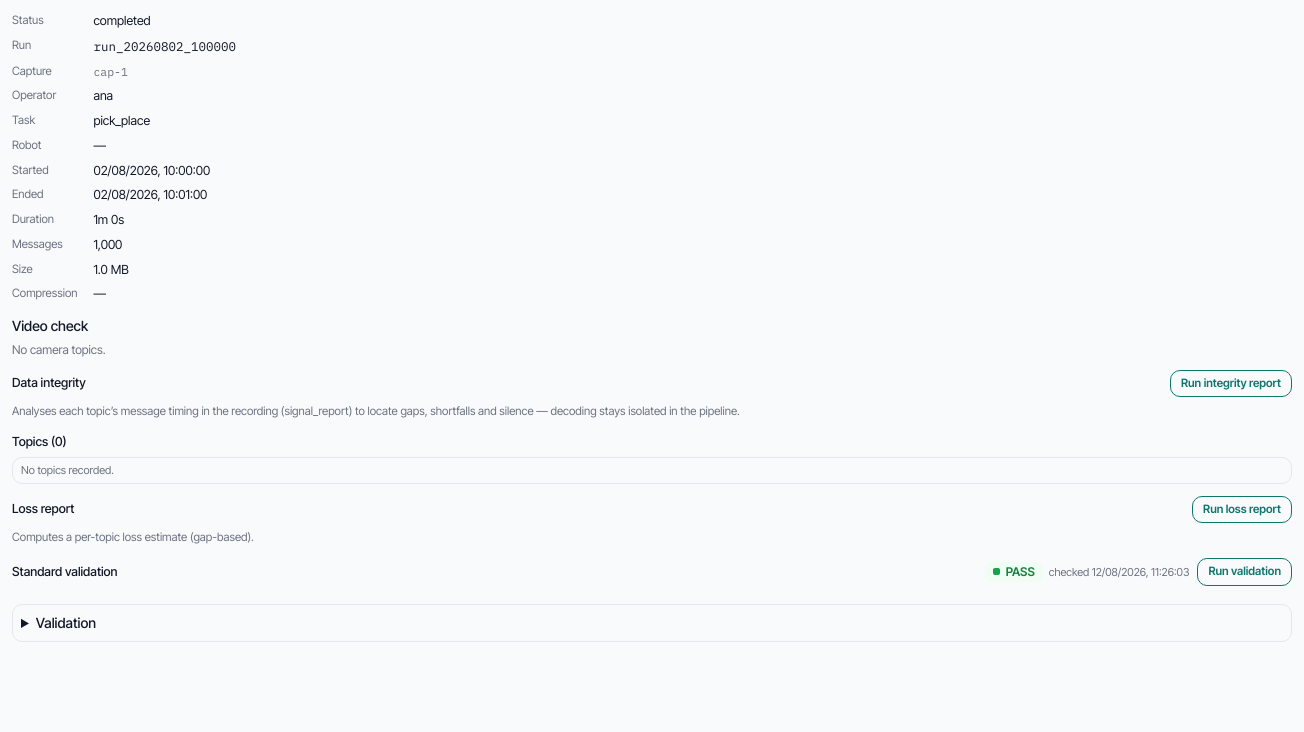
Test: a check that never reaches the server is separated from the stored PASS
This screenshot has width=1304, height=732.
Click the button with test id "review-run-validation". click: click(1245, 572)
box: [1197,558,1292,586]
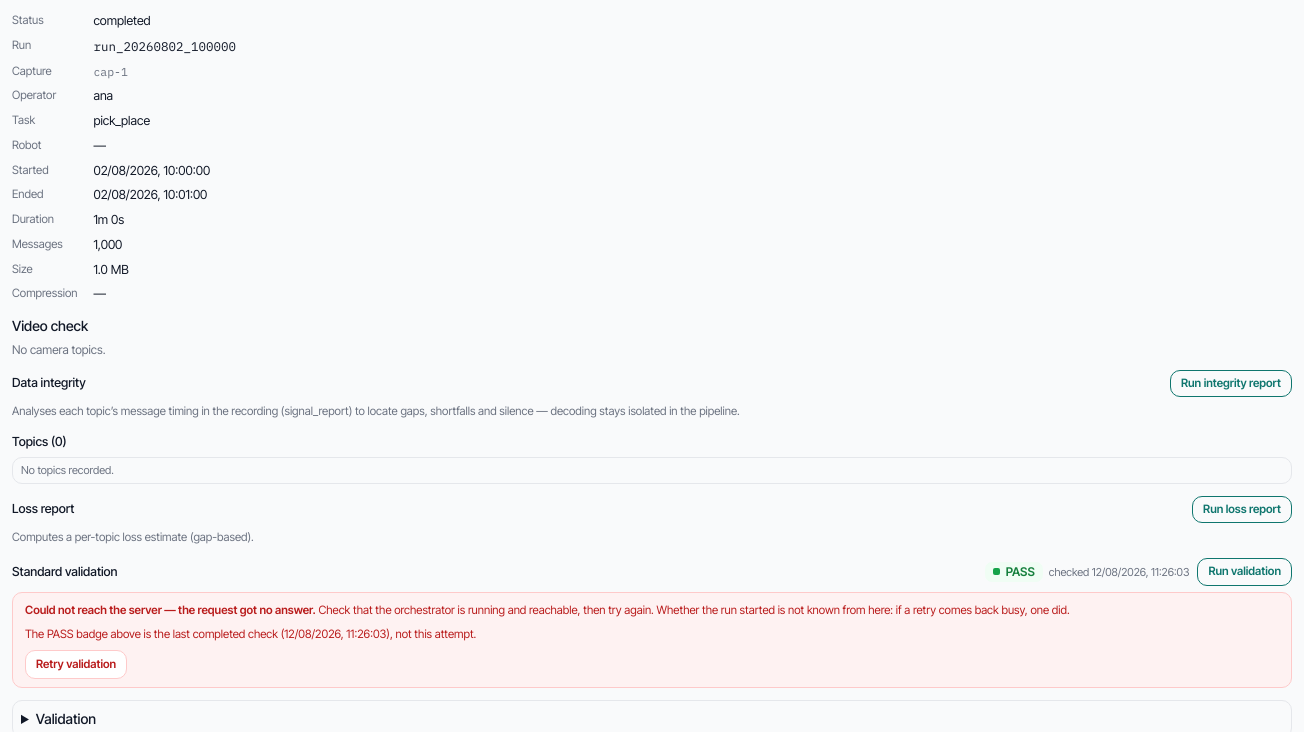
Check: the message with test id "review-validation-error" shows "Could not reach the server", box [25,602,316,616]
Check: the message with test id "review-validation-error" shows "orchestrator is running", box [318,602,1070,616]
Check: the message with test id "review-validation-error" shows "not known", box [318,602,1070,616]
